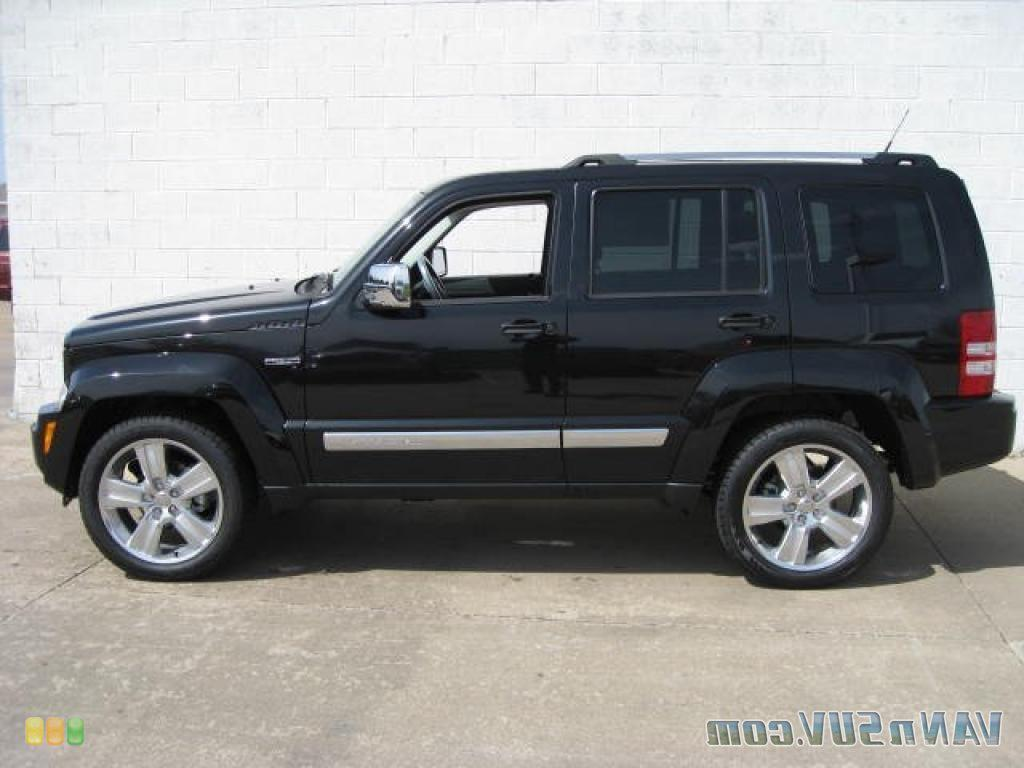Car: (32, 116, 1012, 614)
